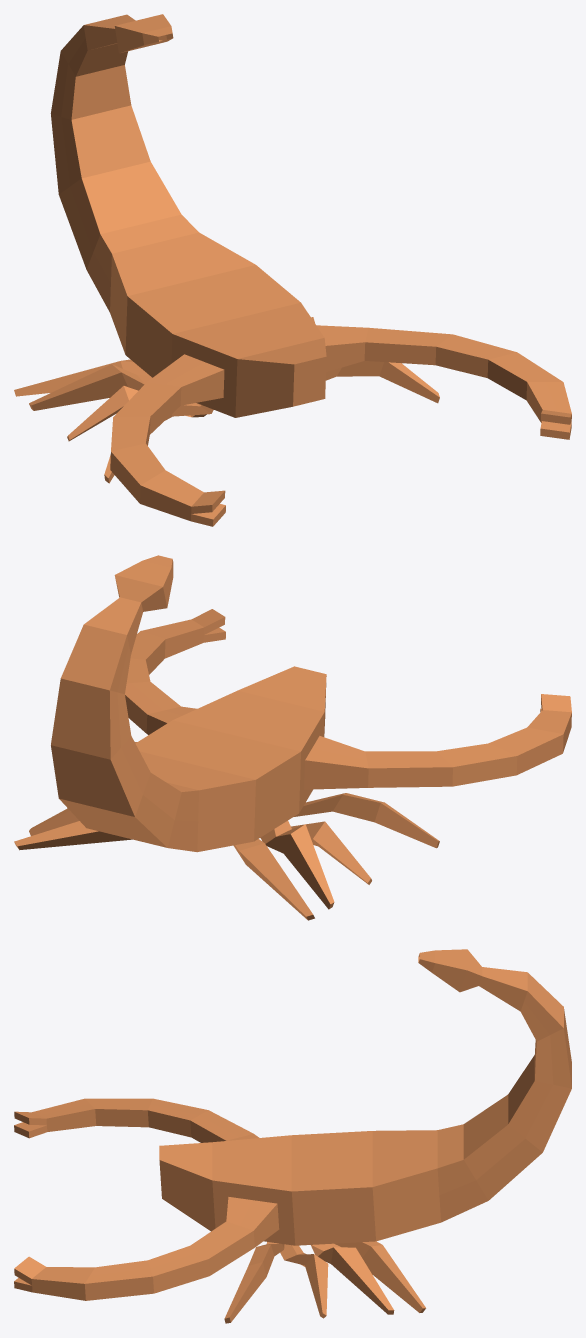
The model's file is Scorpion.fbx.
3 renders of one model, top to bottom at view 1: azimuth 30°, elevation 25°; view 2: azimuth 150°, elevation 25°; view 3: azimuth 270°, elevation 25°, orthographic. The views are drawn at different scales.
Parts seen in each view (by area): view 1: Scorpion; view 2: Scorpion; view 3: Scorpion.
Boxes of the visible parts, <box> form: Scorpion: <box>14,14,571,526</box>; Scorpion: <box>14,555,571,920</box>; Scorpion: <box>14,949,571,1323</box>.
Size of the model in its own units: 20.98 by 15.68 by 26.71.
